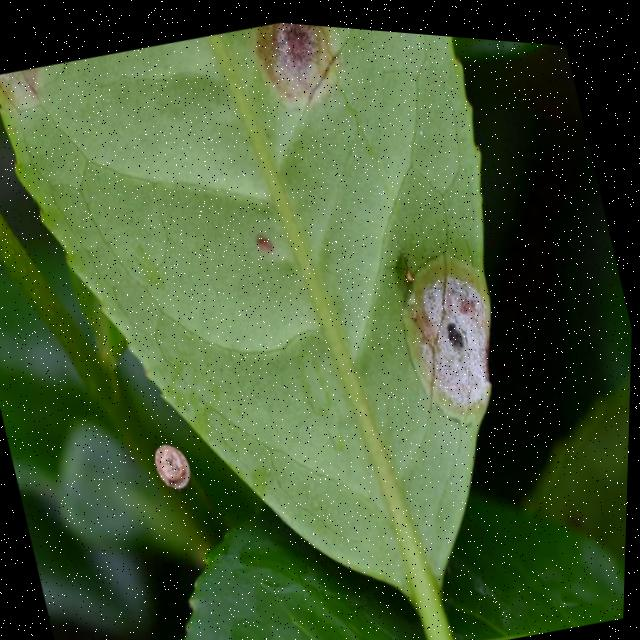Tea cake: (385, 232, 508, 422)
